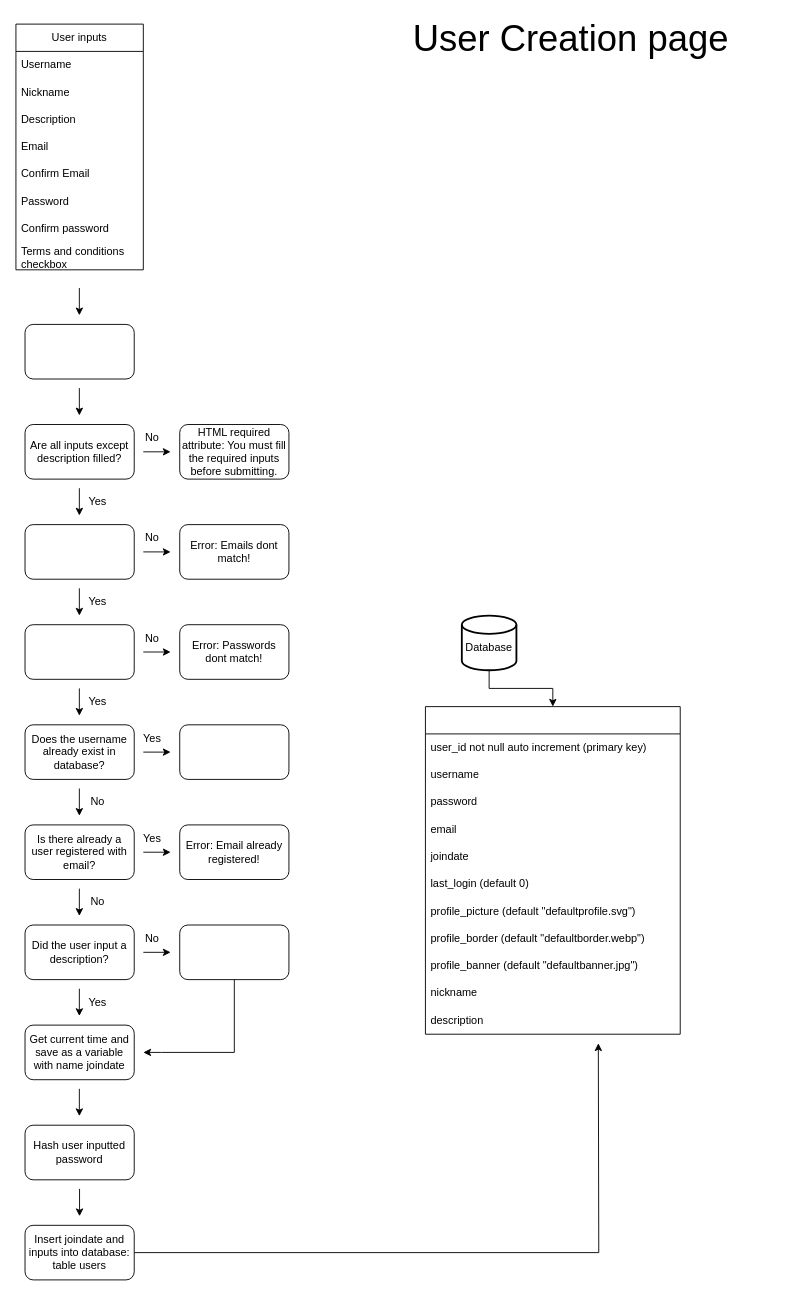
Some shapes in this 796 by 1296 pixel diagram are drawn without their labels. The shapes that lost their labels are listed below. From the top down, each one's box as (x1, y1, x2, y2) in pixels, then its label:
(24, 324, 134, 379): User inputs information
(24, 524, 134, 579): Does confirm email input match with email input?
(24, 624, 134, 679): Does confirm password input match with password input?
(179, 724, 289, 779): Error: Username taken!
(425, 706, 680, 1034): users
(179, 924, 289, 980): Description: "No description"
